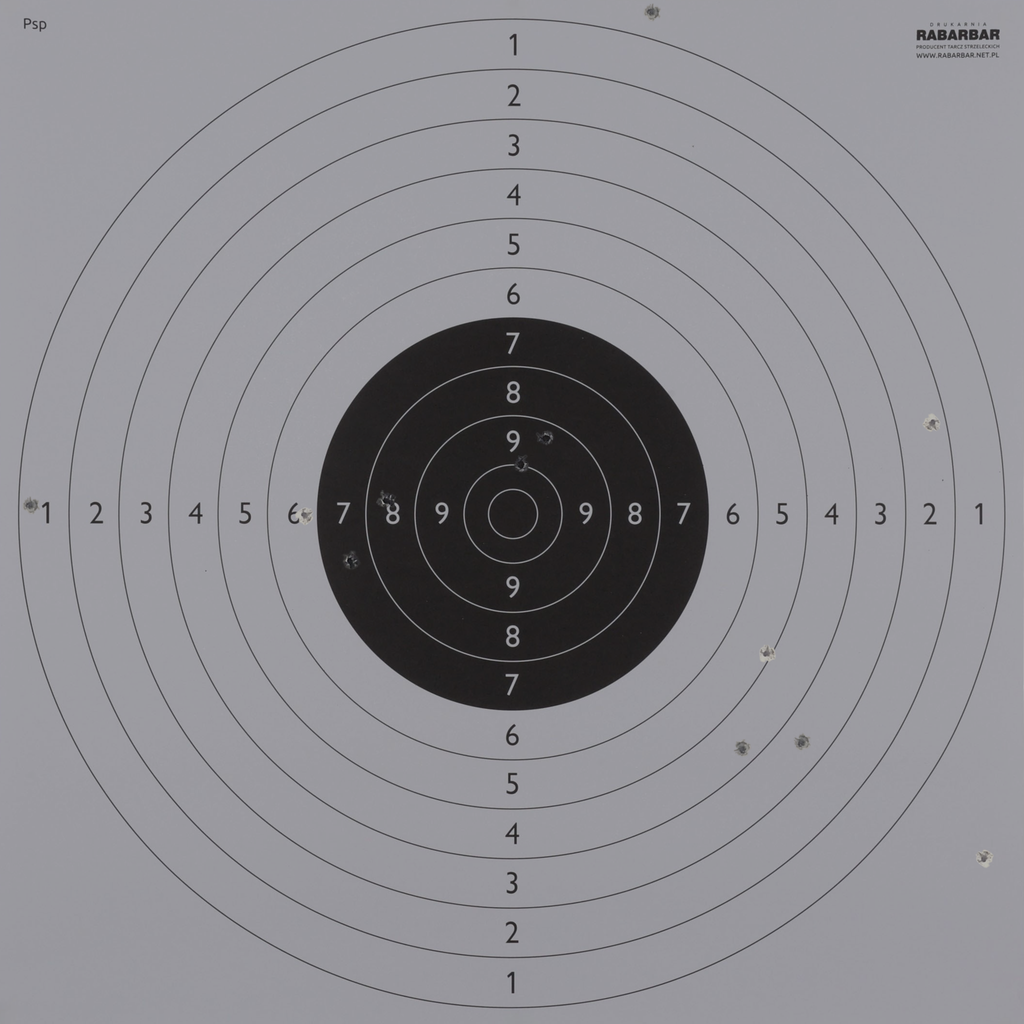0 punktow: (975, 849, 993, 868)
1 punkt: (21, 496, 40, 515)
10 punktow: (512, 455, 530, 474)
2 punkty: (923, 414, 942, 432)
3 punkty: (792, 734, 811, 752)
4 punkty: (733, 740, 752, 758)
5 punktow: (757, 644, 776, 663)
6 punktow: (296, 506, 314, 524)
7 punktow: (341, 551, 359, 570)
8 punktow: (378, 491, 396, 510)
9 punktow: (537, 429, 555, 447)
